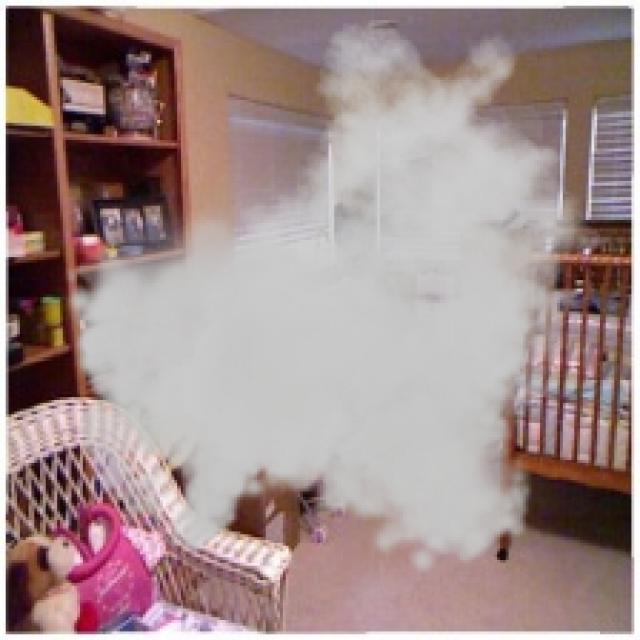smoke: (63, 17, 628, 577)
